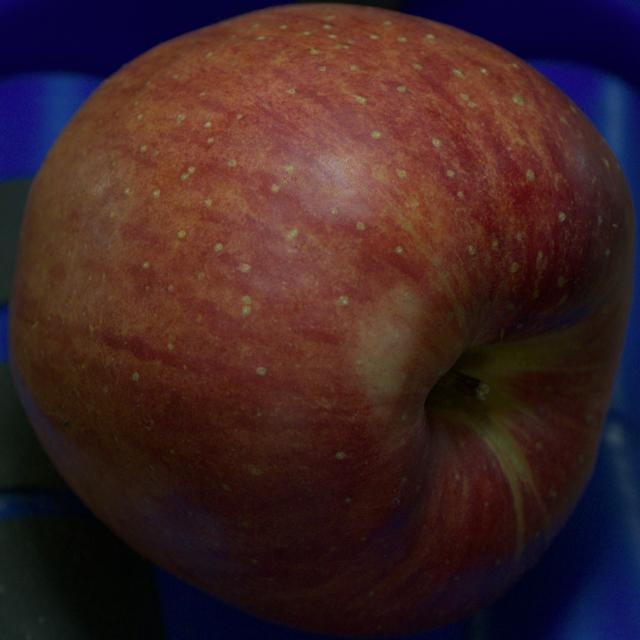apple: (8, 4, 635, 637)
